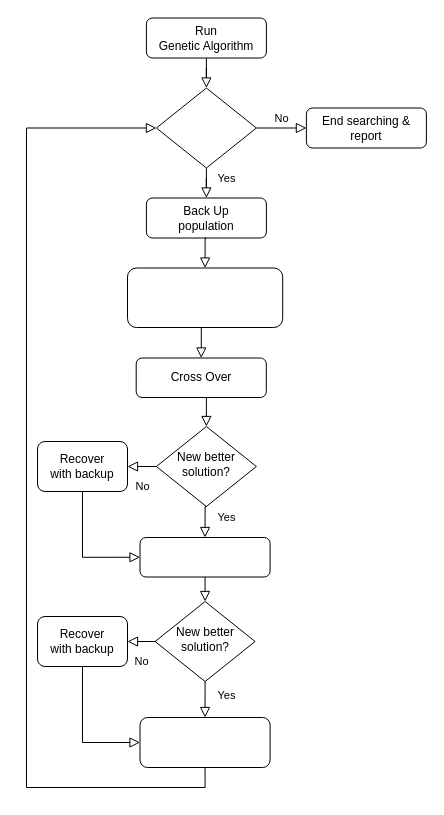
Some shapes in this 444 by 815 pixel diagram are drawn without their labels. The centre of each missing label's shape, as x and y in pixels:
Evaluate & KeepBest: the point at 204,742
generation < max generation: the point at 205,127
Mutation: the point at 204,556
Select units according to scores, build a new population: the point at 204,297
